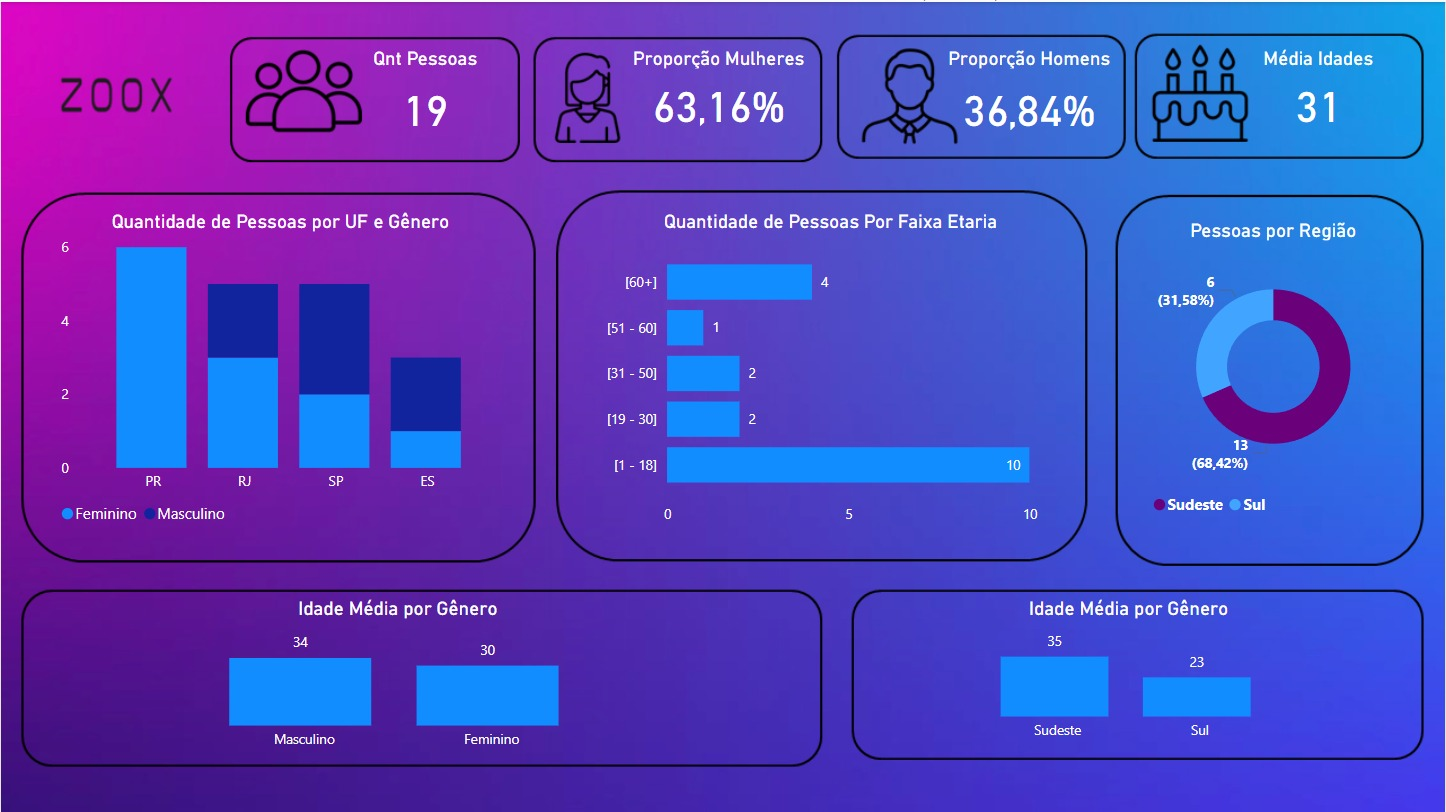

This screenshot's page, from the dashboard's own definition file:
{"tool":"powerbi","page":{"name":"Página 1","canvas":[1280,720],"ordinal":0},"visuals":[{"type":"donutChart","title":"Pessoas por Região","fields":{"Category":["cardio_alco.Região"],"Y":["CountNonNull(cardio_alco.Quantidade)"]},"box":[1016,192,224,272],"z":0},{"type":"card","title":"Média Idades","fields":{"Values":["Avg(cardio_alco.Idade)"]},"box":[1088,40,160,80],"z":1000},{"type":"columnChart","title":"Quantidade de Pessoas por UF e Gênero","fields":{"Category":["cardio_alco.Região"],"Series":["cardio_alco.Genero"],"Y":["Sum(cardio_alco.Quantidade)"]},"box":[48,184,400,288],"z":2000},{"type":"columnChart","title":"Idade Média por Gênero","fields":{"Y":["Avg(cardio_alco.Idade)"],"Category":["cardio_alco.Genero"]},"box":[48,528,608,144],"z":3000},{"type":"card","title":"Proporção Homens","fields":{"Values":["cardio_alco.Proporção de Homens"]},"box":[832,40,160,88],"z":4000},{"type":"card","title":"Proporção Mulheres","fields":{"Values":["cardio_alco.Proporção Mulheres"]},"box":[552,40,168,80],"z":5000},{"type":"card","title":"Qnt Pessoas","fields":{"Values":["CountNonNull(cardio_alco.Quantidade)"]},"box":[296,40,160,88],"z":6000},{"type":"barChart","title":"Quantidade de Pessoas Por Faixa Etaria","fields":{"Category":["cardio_alco.Faixa Etária"],"Y":["CountNonNull(cardio_alco.Idade)"]},"box":[528,184,416,288],"z":7000},{"type":"columnChart","title":"Idade Média por Gênero","fields":{"Category":["cardio_alco.Região"],"Y":["Avg(cardio_alco.Idade)"]},"box":[768,528,464,136],"z":8000}]}

Visuals, with their boxes in screenshot pixels (x1, y1, x2, y2), scaled from the page's 1280x720 canvas onto the 1446x812 screenshot:
"Pessoas por Região" donutChart: bbox(1148, 217, 1401, 523)
"Média Idades" card: bbox(1229, 45, 1410, 135)
"Quantidade de Pessoas por UF e Gênero" columnChart: bbox(54, 208, 506, 532)
"Idade Média por Gênero" columnChart: bbox(54, 595, 741, 758)
"Proporção Homens" card: bbox(940, 45, 1121, 144)
"Proporção Mulheres" card: bbox(624, 45, 813, 135)
"Qnt Pessoas" card: bbox(334, 45, 515, 144)
"Quantidade de Pessoas Por Faixa Etaria" barChart: bbox(596, 208, 1066, 532)
"Idade Média por Gênero" columnChart: bbox(868, 595, 1392, 749)
